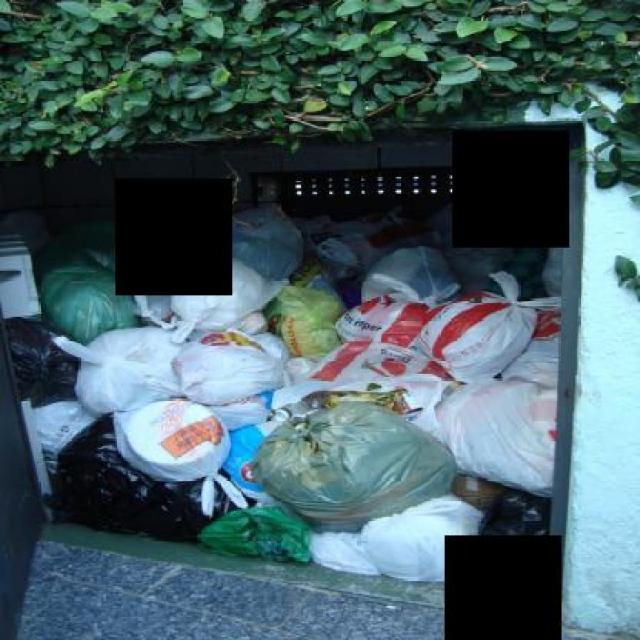plastic bag: (2, 202, 563, 586), (230, 404, 468, 542)
